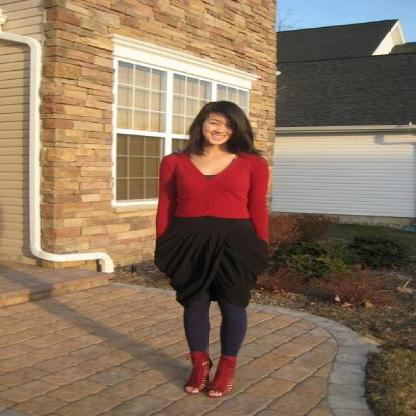shirt: (146, 152, 270, 240)
shoe: (183, 351, 235, 403)
skirt: (154, 216, 280, 304)
